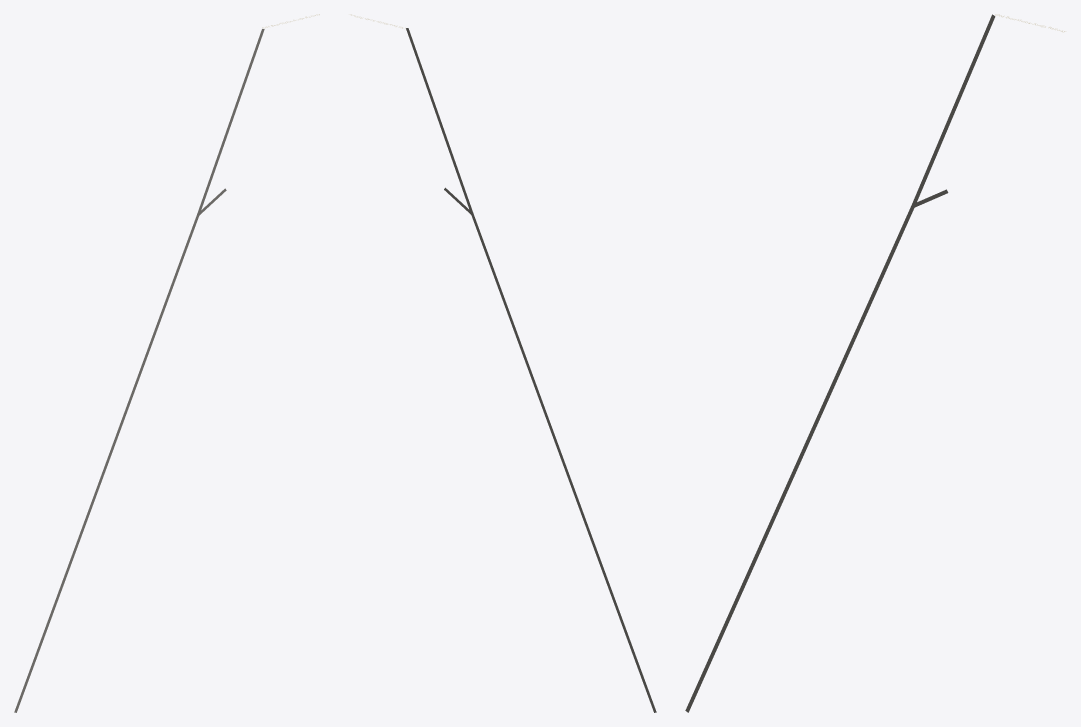
File: historic-palestine-06_16_3478_3107.glb
3 renders of one model, left to right at view 1: azimuth 30°, elevation 25°; view 2: azimuth 150°, elevation 25°; view 3: azimuth 330°, elevation 25°, orthographic. The views are drawn at different scales.
Visible parts, largest first — view 1: Road, Road Old BeerSheba-Audja Railway; view 2: Road, Road Old BeerSheba-Audja Railway; view 3: Road, Road Old BeerSheba-Audja Railway.
Part boxes in pixels (x1,y1,x2,y2): Road: (14, 214, 199, 712); Road Old BeerSheba-Audja Railway: (197, 29, 264, 214); Road: (471, 214, 656, 712); Road Old BeerSheba-Audja Railway: (406, 28, 473, 213); Road: (685, 205, 914, 712); Road Old BeerSheba-Audja Railway: (912, 14, 995, 206).
Size of the model in its own units: 142 by 276 by 2.03.
